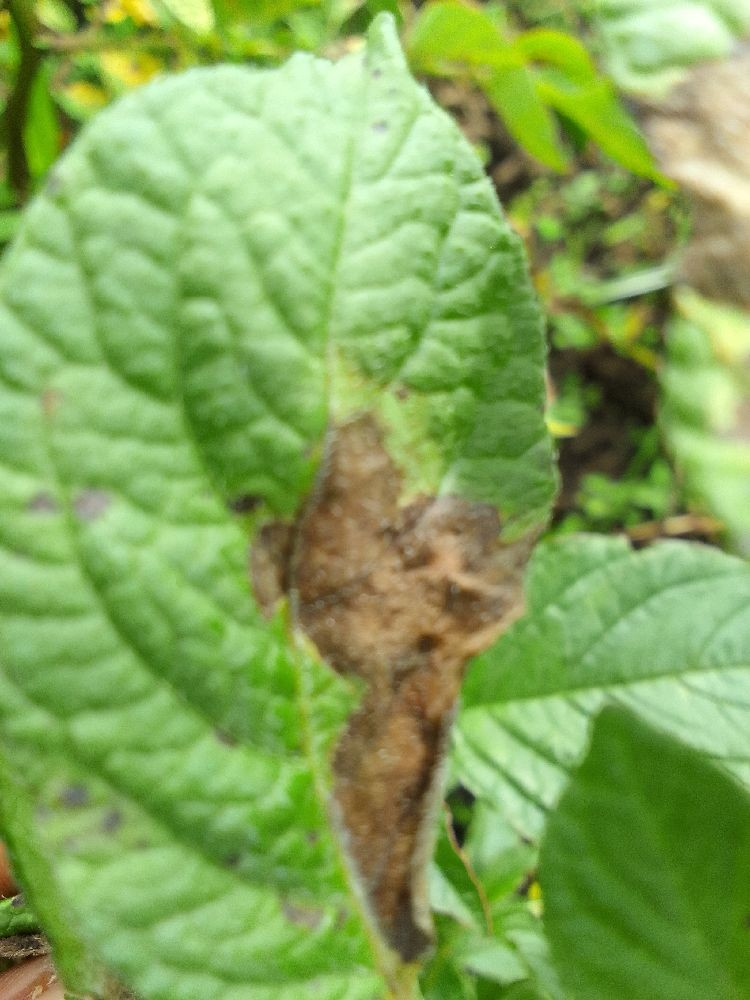late_blight: (233, 394, 554, 984), (487, 32, 750, 342), (594, 486, 743, 565), (0, 920, 73, 1000)
